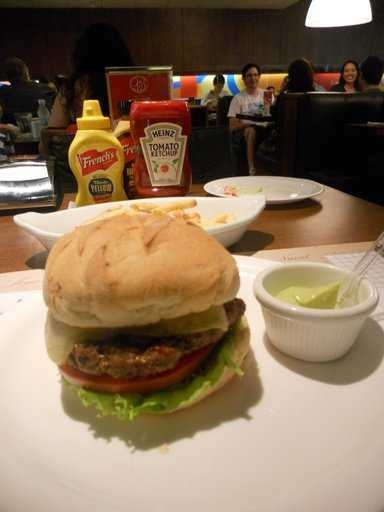hamburger: (41, 205, 242, 433)
